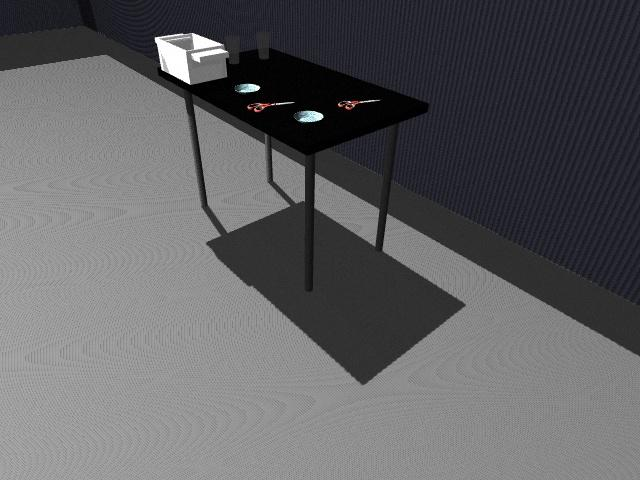cup: (225, 34, 241, 64), (255, 30, 270, 60)
plate: (293, 110, 324, 123), (234, 83, 261, 94)
scissors: (246, 100, 294, 112), (339, 99, 379, 110)
